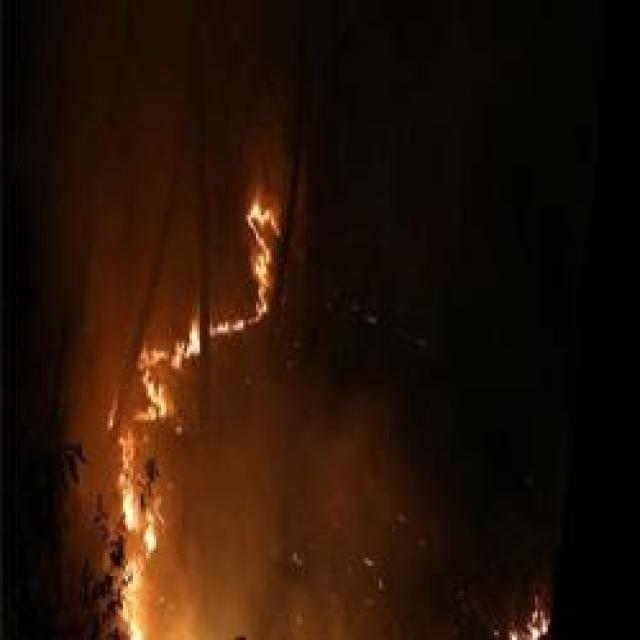Fire: (244, 200, 286, 299), (115, 491, 168, 552), (134, 342, 203, 374), (142, 380, 178, 422)
